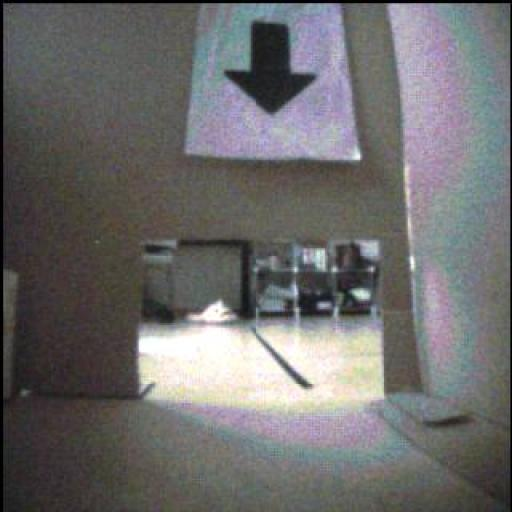arrow: (227, 24, 316, 115)
